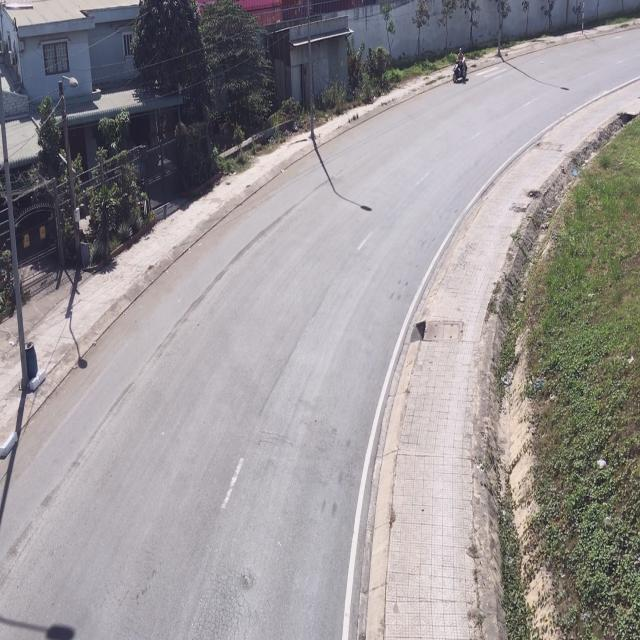motorbike: (452, 49, 468, 84)
